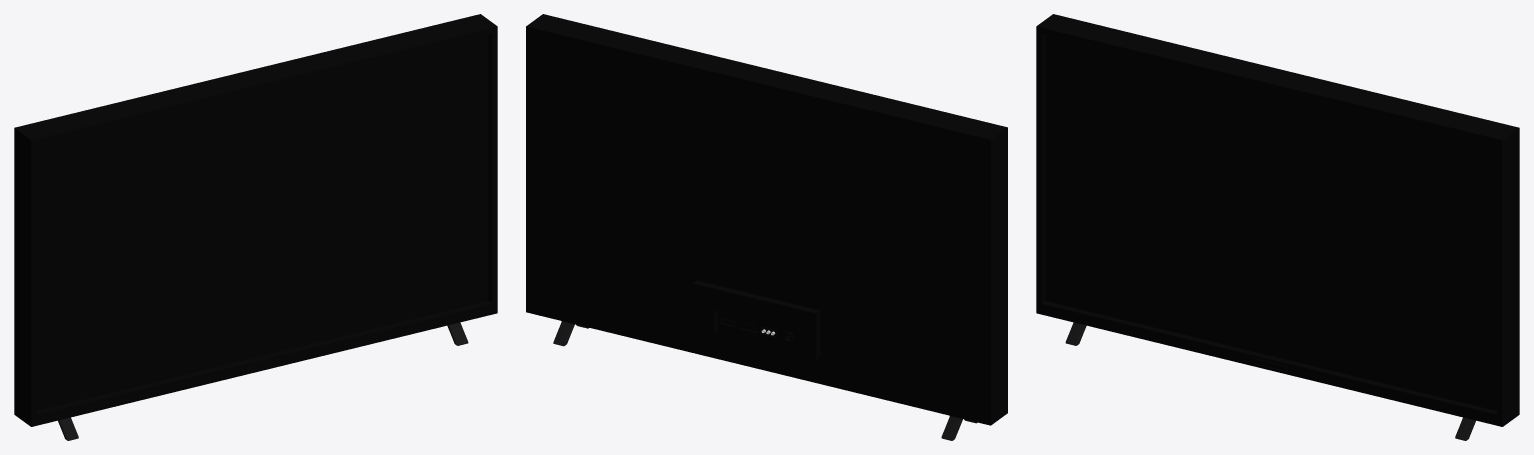
The picture shows the model from 3 angles, left to right: view 1: azimuth 30°, elevation 25°; view 2: azimuth 150°, elevation 25°; view 3: azimuth 330°, elevation 25°; orthographic projection.
Parts seen in each view (by area): view 1: Cube.002, Cube.003; view 2: Cube.002, Cube.003; view 3: Cube.002, Cube.003.
Boxes of the visible parts, <box> form: Cube.002: <box>14,14,497,426</box>; Cube.003: <box>58,322,468,440</box>; Cube.002: <box>526,14,1007,425</box>; Cube.003: <box>553,321,977,440</box>; Cube.002: <box>1036,14,1519,426</box>; Cube.003: <box>1065,322,1475,440</box>.
Bounding box in the file's own units: 1.11 × 0.6942 × 0.1094.
3 materials, 2 textured.
